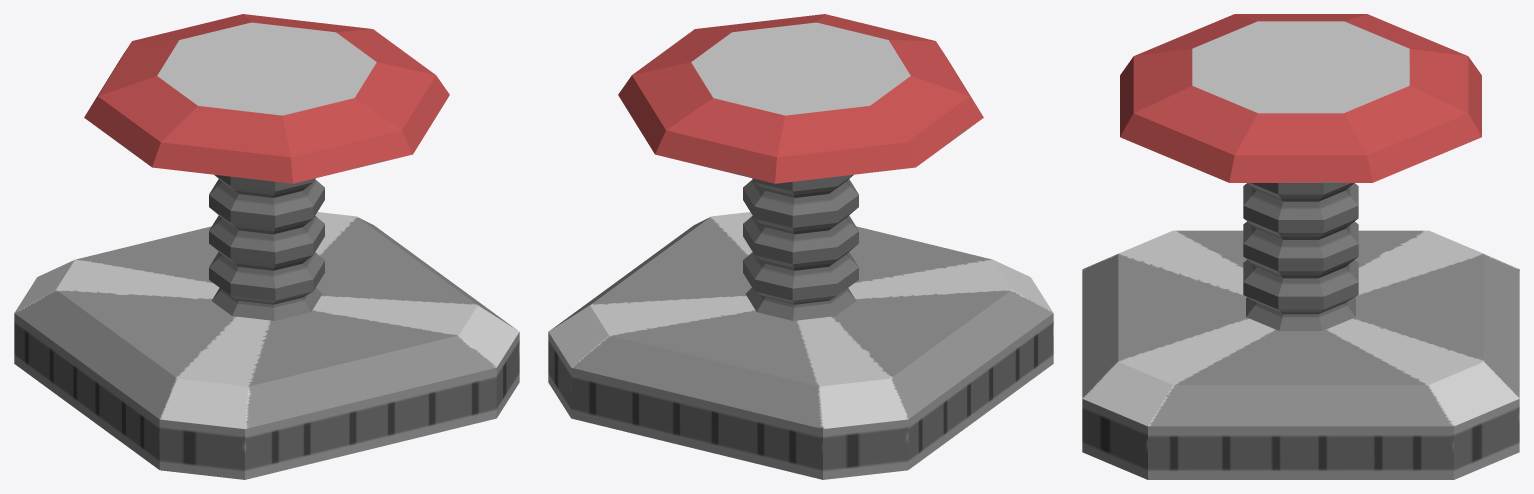
Rendered from Model_Spring.fbx.
3 views of the same model, side by side, from view 1: azimuth 30°, elevation 25°; view 2: azimuth 150°, elevation 25°; view 3: azimuth 270°, elevation 25° (orthographic). The views are drawn at different scales.
Parts seen in each view (by area): view 1: polySurface6, polySurface4, polySurface5; view 2: polySurface6, polySurface4, polySurface5; view 3: polySurface6, polySurface4, polySurface5.
Boxes of the visible parts, box(x1,y1,x2,y2) form: polySurface6: box(14, 212, 519, 479); polySurface4: box(84, 14, 449, 183); polySurface5: box(209, 174, 324, 320); polySurface6: box(548, 212, 1053, 479); polySurface4: box(618, 14, 983, 183); polySurface5: box(743, 174, 858, 320); polySurface6: box(1082, 230, 1519, 479); polySurface4: box(1120, 14, 1481, 182); polySurface5: box(1243, 183, 1358, 330).
Size of the model in its own units: 4.27 by 3.45 by 4.27.
